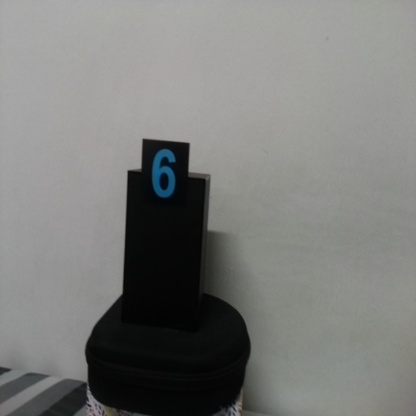id_6: (140, 139, 189, 220)
